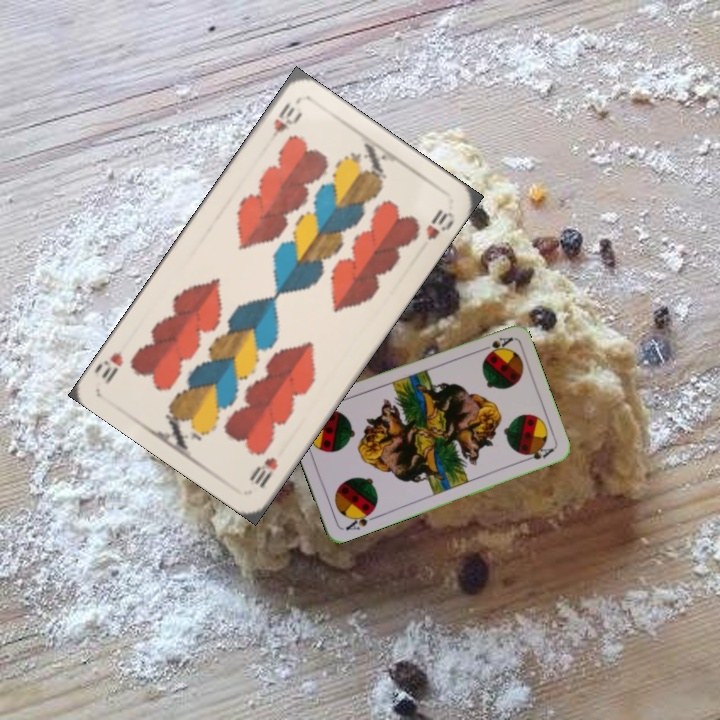H10: (264, 98, 304, 150), (245, 453, 281, 491)
SA: (341, 506, 379, 533), (476, 333, 515, 356)
